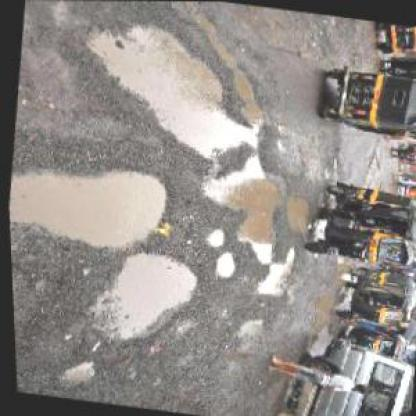pothole: (74, 13, 286, 166), (6, 152, 174, 256), (190, 146, 291, 270), (84, 245, 202, 350), (251, 242, 300, 300), (277, 191, 312, 236), (54, 358, 97, 391), (211, 250, 238, 282), (204, 224, 226, 247)
